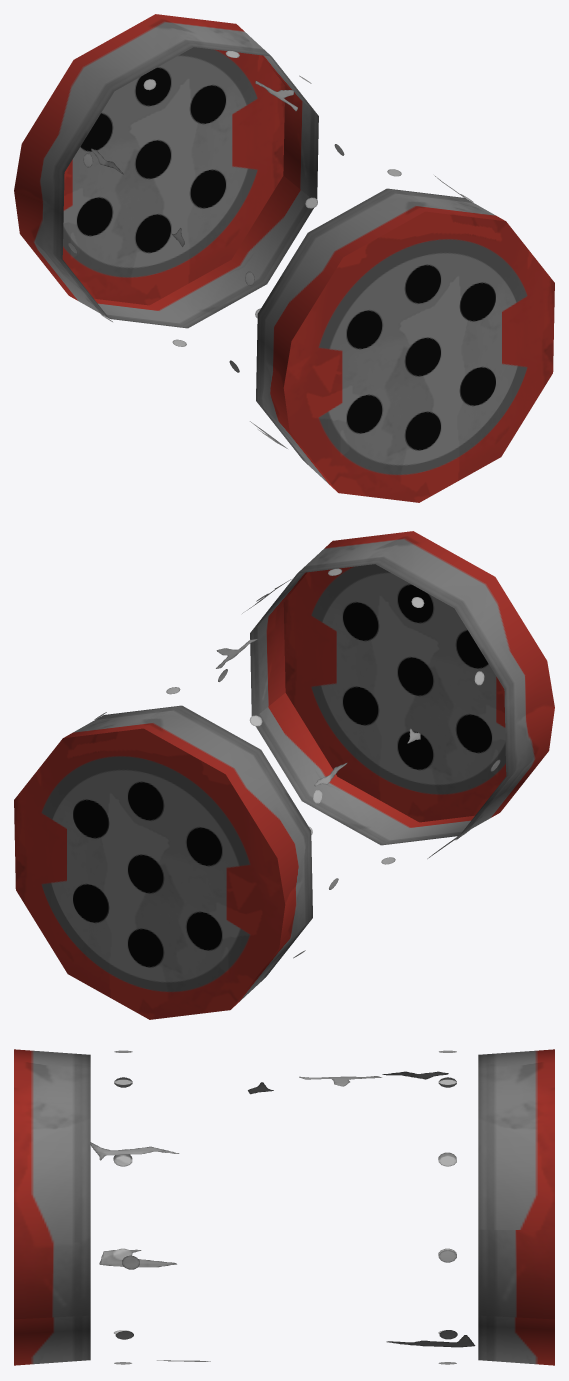
The model's file is env_building_silopipe01_lod2.fbx.
3 renders of one model, top to bottom at view 1: azimuth 30°, elevation 25°; view 2: azimuth 150°, elevation 25°; view 3: azimuth 270°, elevation 25°, orthographic.
Visible parts, largest first — view 1: polySurface1550; view 2: polySurface1550; view 3: polySurface1550.
Part boxes in pixels (x1,y1,x2,y2): polySurface1550: [14, 14, 554, 502]; polySurface1550: [14, 531, 554, 1019]; polySurface1550: [14, 1049, 554, 1365].
Bounding box in the file's own units: 31.25 × 31.24 × 52.67.
